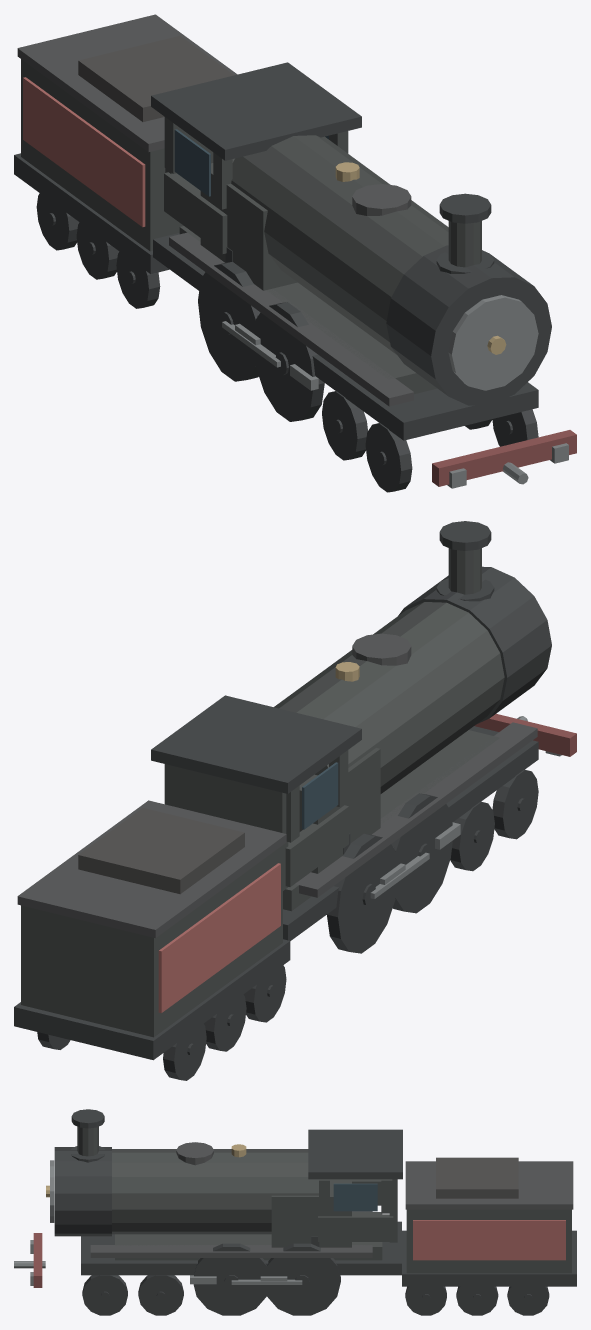
The model's file is lms_ex_highland_4-4-0.glb.
The picture shows the model from 3 angles, top to bottom: view 1: azimuth 30°, elevation 25°; view 2: azimuth 150°, elevation 25°; view 3: azimuth 270°, elevation 25°; orthographic projection. The views are drawn at different scales.
Parts seen in each view (by area): view 1: boiler, smokebox, cab_roof, tender_panel_-1, tender_top_lip, engine_footplate, tender_coal, tender_body, smokebox_door, running_board_-1, wheel_driving_L_0, wheel_driving_L_1 (+17 smaller); view 2: boiler, tender_body, cab_roof, tender_top_lip, tender_coal, tender_panel_-1, smokebox, tender_underframe, running_board_-1, cab_back, wheel_driving_L_1, wheel_driving_L_0 (+15 smaller); view 3: boiler, tender_panel_1, tender_top_lip, smokebox, cab_roof, tender_body, engine_footplate, wheel_driving_R_1, wheel_driving_R_0, tender_coal, running_board_1, firebox (+18 smaller).
Part boxes in pixels (x1,y1,x2,y2): boiler: [231, 135, 448, 354]; smokebox: [386, 245, 551, 405]; cab_roof: [151, 62, 361, 160]; tender_panel_-1: [23, 77, 145, 227]; tender_top_lip: [17, 14, 237, 152]; engine_footplate: [153, 233, 538, 440]; tender_coal: [78, 35, 233, 121]; tender_body: [21, 59, 183, 251]; smokebox_door: [448, 295, 538, 390]; running_board_-1: [169, 232, 413, 406]; wheel_driving_L_0: [254, 302, 324, 421]; wheel_driving_L_1: [198, 262, 260, 381]; boiler: [274, 602, 504, 793]; tender_body: [21, 845, 282, 1037]; cab_roof: [151, 695, 361, 793]; tender_top_lip: [17, 800, 286, 937]; tender_coal: [78, 808, 244, 894]; tender_panel_-1: [158, 863, 280, 1013]; smokebox: [398, 566, 551, 723]; tender_underframe: [14, 939, 290, 1060]; running_board_-1: [295, 722, 537, 897]; cab_back: [165, 764, 288, 890]; wheel_driving_L_1: [327, 833, 396, 953]; wheel_driving_L_0: [391, 793, 452, 913]; boiler: [112, 1149, 318, 1234]; tender_panel_1: [413, 1220, 565, 1260]; tender_top_lip: [405, 1161, 573, 1209]; smokebox: [54, 1147, 111, 1236]; cab_roof: [308, 1129, 402, 1179]; tender_body: [406, 1209, 571, 1273]; engine_footplate: [81, 1221, 401, 1275]; wheel_driving_R_1: [265, 1243, 340, 1315]; wheel_driving_R_0: [193, 1243, 269, 1315]; tender_coal: [436, 1157, 518, 1198]; running_board_1: [90, 1245, 372, 1257]; firebox: [271, 1179, 351, 1247].
Bounding box in the file's own units: 2.32 × 4.04 × 11.57.
